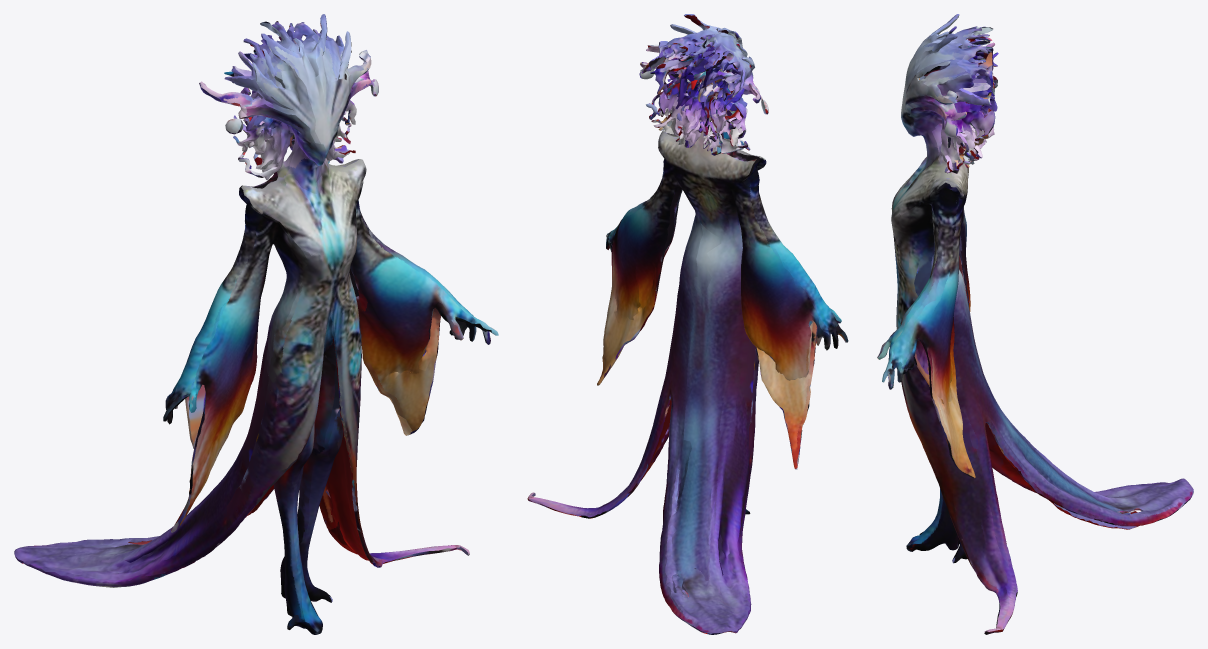
The model's file is t_ana_rhe.glb.
3 views of the same model, side by side, from view 1: azimuth 30°, elevation 25°; view 2: azimuth 150°, elevation 25°; view 3: azimuth 270°, elevation 25° (orthographic). The views are drawn at different scales.
Visible parts, largest first — view 1: tmp54z3gdr5.ply; view 2: tmp54z3gdr5.ply; view 3: tmp54z3gdr5.ply.
Boxes of the visible parts, left/top/right/bottom form: tmp54z3gdr5.ply: left=14, top=14, right=498, bottom=634; tmp54z3gdr5.ply: left=527, top=14, right=848, bottom=634; tmp54z3gdr5.ply: left=877, top=14, right=1193, bottom=634.
Size of the model in its own units: 1.22 by 1.99 by 1.08.
Materials: 1 (1 with a texture image).
